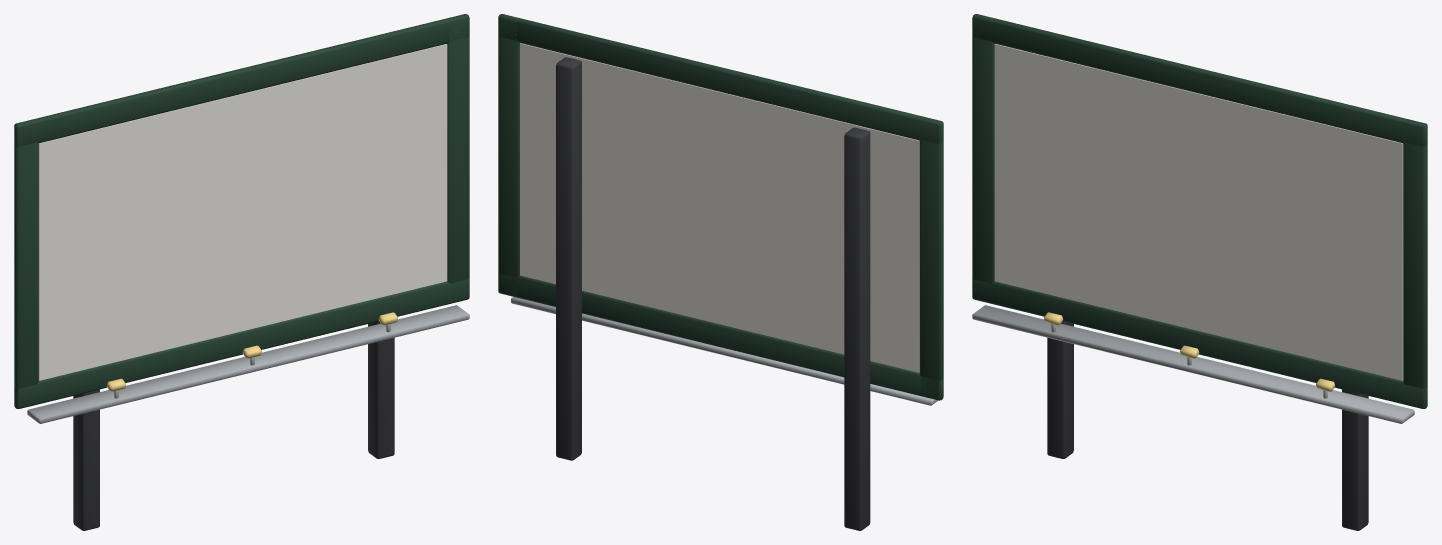
Rendered from billboard.glb.
3 renders of one model, left to right at view 1: azimuth 30°, elevation 25°; view 2: azimuth 150°, elevation 25°; view 3: azimuth 330°, elevation 25°, orthographic. The views are drawn at different scales.
Visible parts, largest first — view 1: billboard; view 2: billboard; view 3: billboard.
Boxes of the visible parts, x1=… form: billboard: x1=14, y1=14, x2=469, y2=530; billboard: x1=498, y1=14, x2=943, y2=530; billboard: x1=972, y1=14, x2=1427, y2=530.
Size of the model in its own units: 4 by 3.6 by 0.4027.
Materials: 1 (1 with a texture image).
